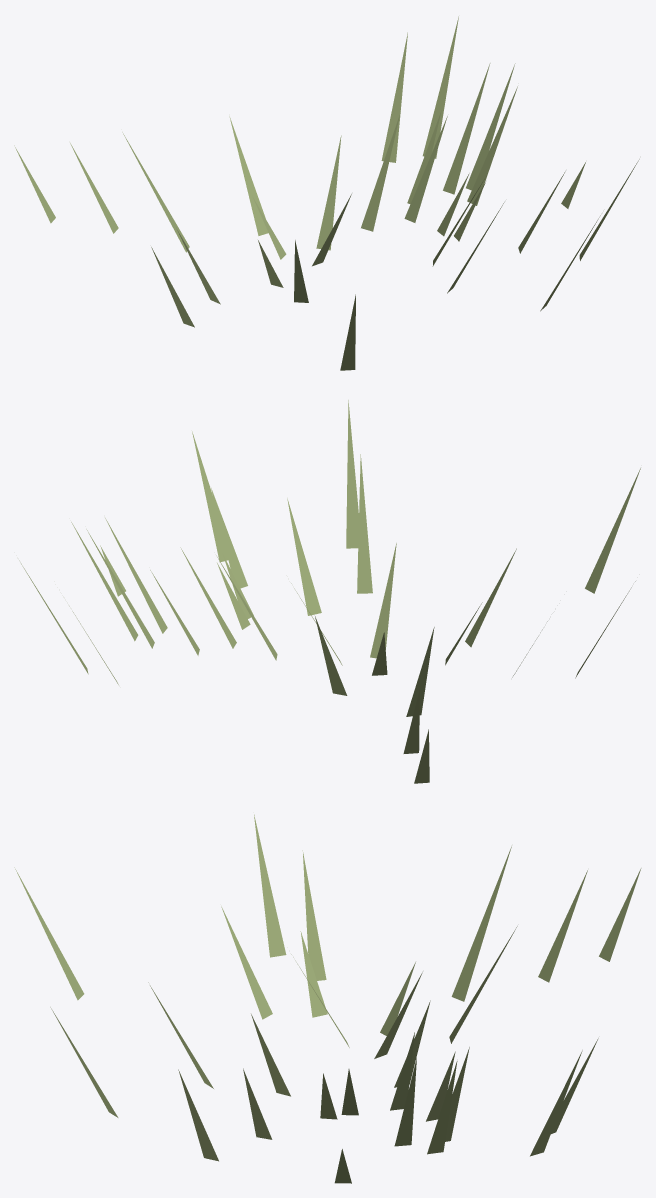
The model's file is lawn-tuft.glb.
3 renders of one model, top to bottom at view 1: azimuth 30°, elevation 25°; view 2: azimuth 150°, elevation 25°; view 3: azimuth 270°, elevation 25°, orthographic. The views are drawn at different scales.
Visible parts, largest first — view 1: lawn-tuft_landscape_grass; view 2: lawn-tuft_landscape_grass; view 3: lawn-tuft_landscape_grass.
Part boxes in pixels (x1,y1,x2,y2): lawn-tuft_landscape_grass: [14, 16, 639, 370]; lawn-tuft_landscape_grass: [19, 400, 640, 783]; lawn-tuft_landscape_grass: [14, 814, 641, 1183].
Bounding box in the file's own units: 1.02 × 0.238 × 1.01.
